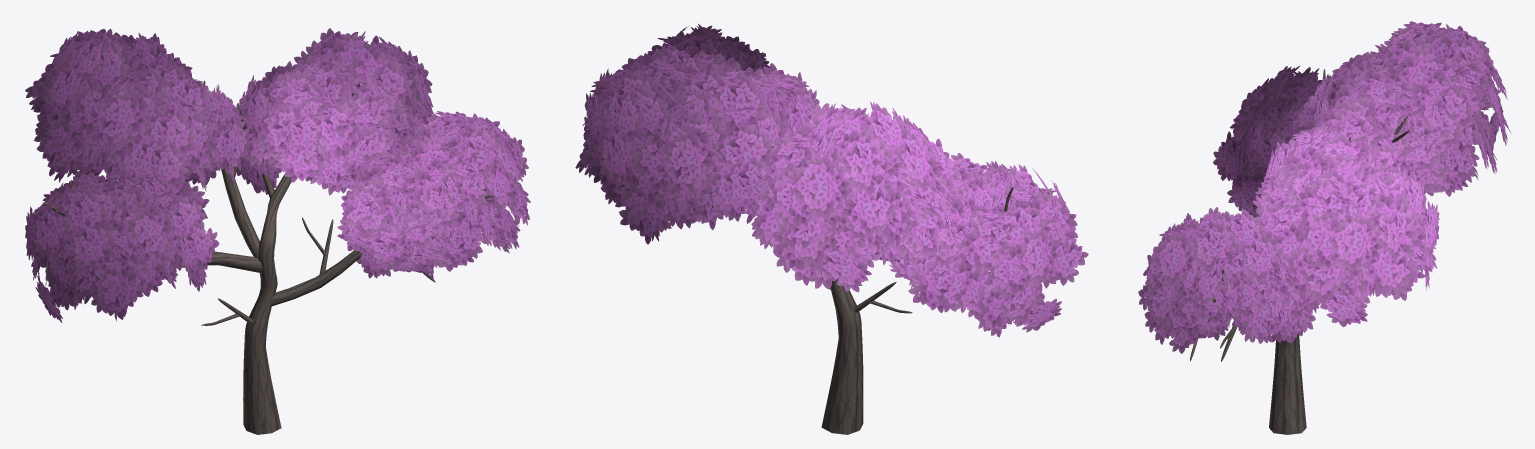
File: CherryTree_8.glb
The picture shows the model from 3 angles, left to right: view 1: azimuth 30°, elevation 25°; view 2: azimuth 150°, elevation 25°; view 3: azimuth 270°, elevation 25°; orthographic projection. The views are drawn at different scales.
Parts seen in each view (by area): view 1: CherryTree_8; view 2: CherryTree_8; view 3: CherryTree_8.
Boxes of the visible parts, left/top/right/bottom form: CherryTree_8: left=25, top=28, right=530, bottom=434; CherryTree_8: left=575, top=24, right=1088, bottom=434; CherryTree_8: left=1138, top=21, right=1511, bottom=434.
Size of the model in its own units: 8.98 by 6.99 by 6.61.
2 materials, 2 textured.
